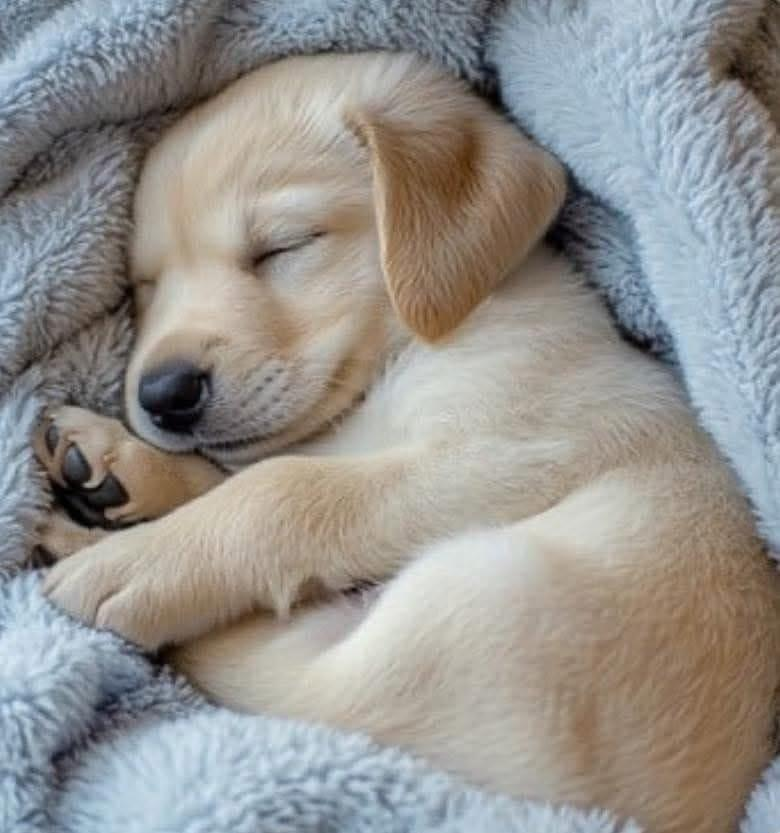puppy-dog: (28, 48, 780, 833)
